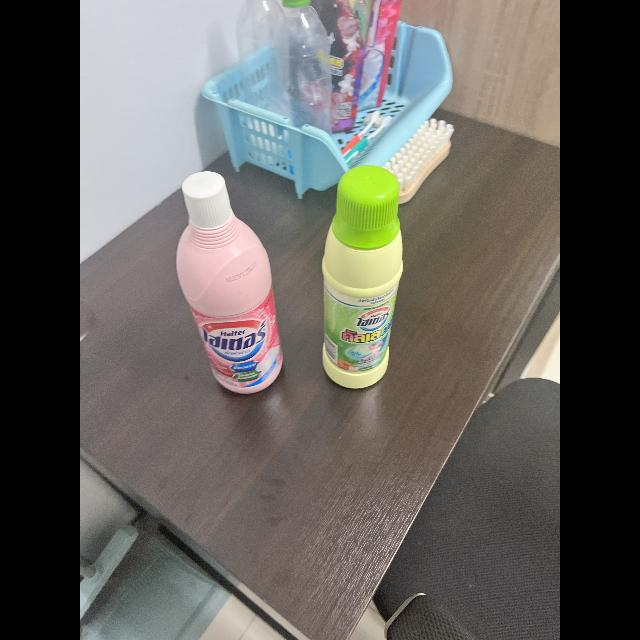chemical_plastic_bottle: (171, 164, 285, 402), (314, 162, 406, 392)
